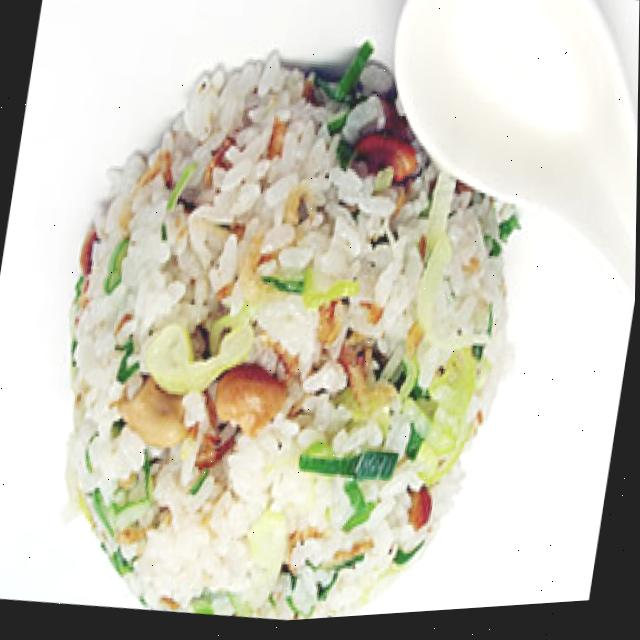米饭主食: (15, 0, 640, 639)
